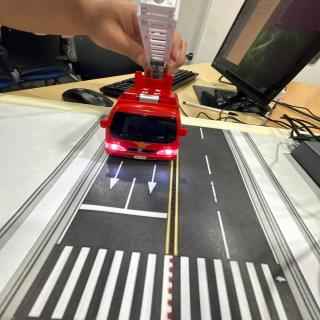Fire_truck: (100, 72, 187, 160)
